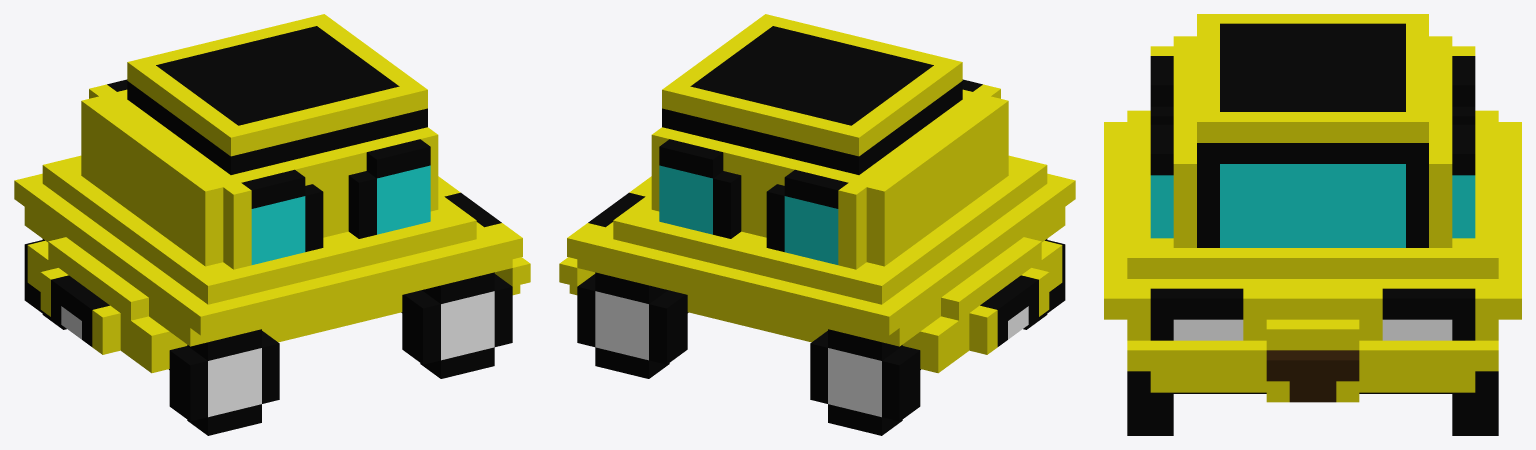
The model's file is yellowCarModel.obj.
3 renders of one model, left to right at view 1: azimuth 30°, elevation 25°; view 2: azimuth 150°, elevation 25°; view 3: azimuth 270°, elevation 25°, orthographic. The views are drawn at different scales.
Bounding box in the file's own units: 2.2 × 1.4 × 1.8.
Materials: 1 (1 with a texture image).
